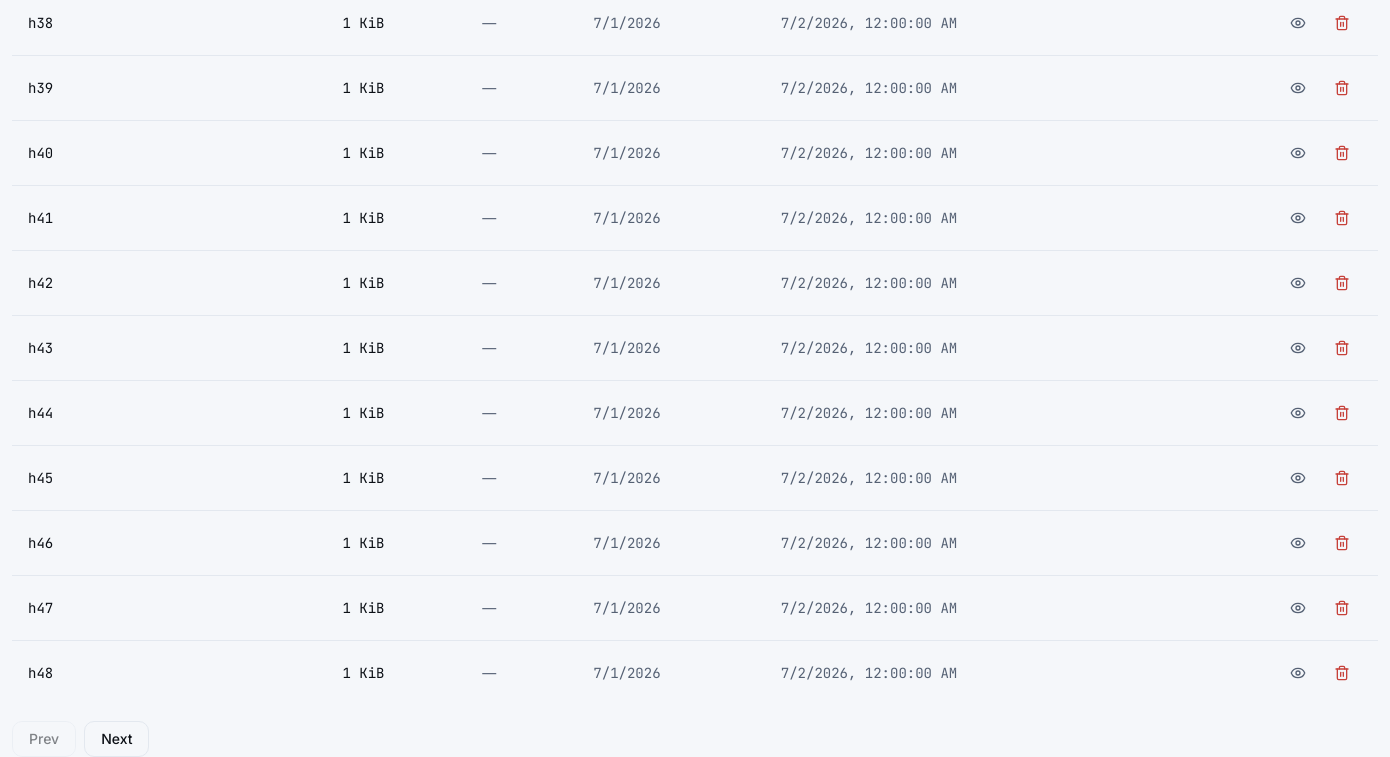
Scenario: ArtifactsPage › shows a page of artifacts and pages forward with offset
(page scrolled)
Expected: the button "Prev" is disabled, [12, 721, 76, 756]
Click the button "Next".
click(117, 739)  # box [84, 721, 149, 756]
(page scrolled)
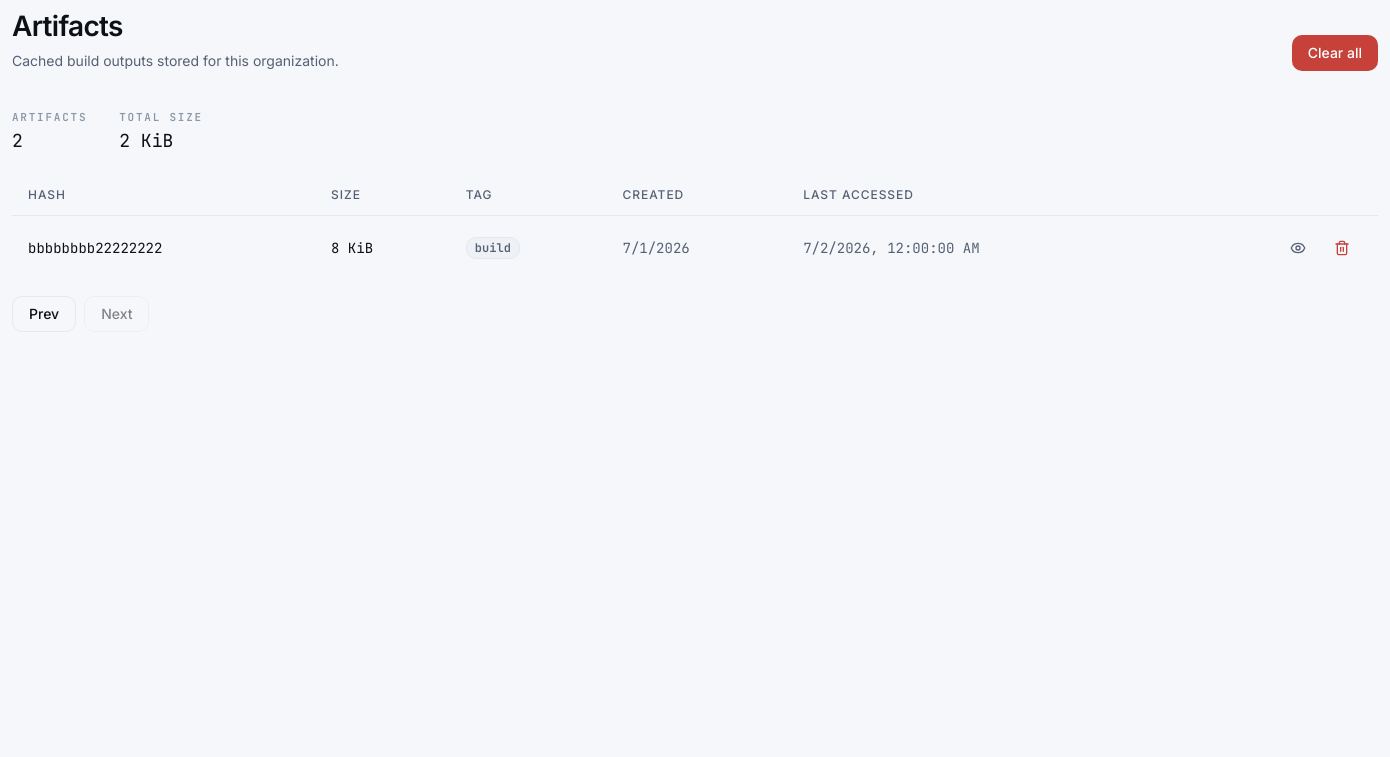
Now the text "build" is shown, box [466, 237, 520, 259]
Now the button "Next" is disabled, box [84, 296, 149, 332]
Now the button "Prev" is enabled, box [12, 296, 76, 332]
